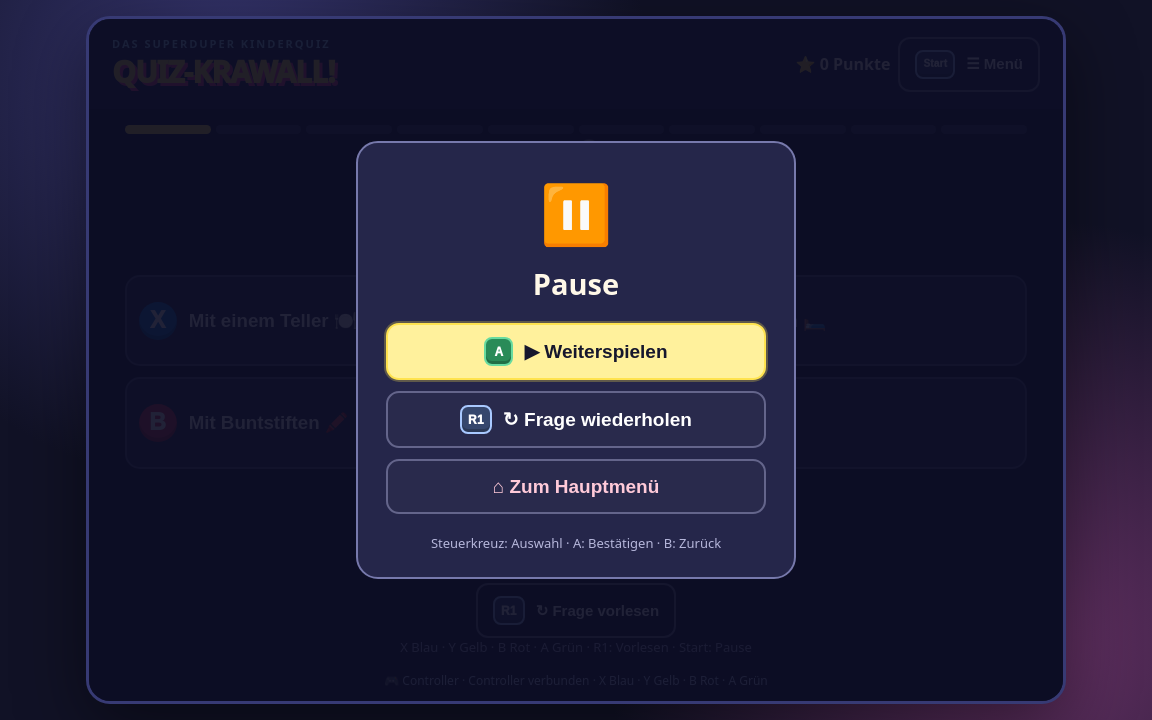
Test: adaptive keyboard and controller hints › displays correct pause-menu shortcuts and restores keyboard mode after using mouse
Check: the button "R1 ↻ Frage wiederholen" is shown, box x1=386 y1=391 x2=766 y2=448
Hover over the button "A ▶ Weiterspielen": point(576, 352) x1=386 y1=323 x2=766 y2=380
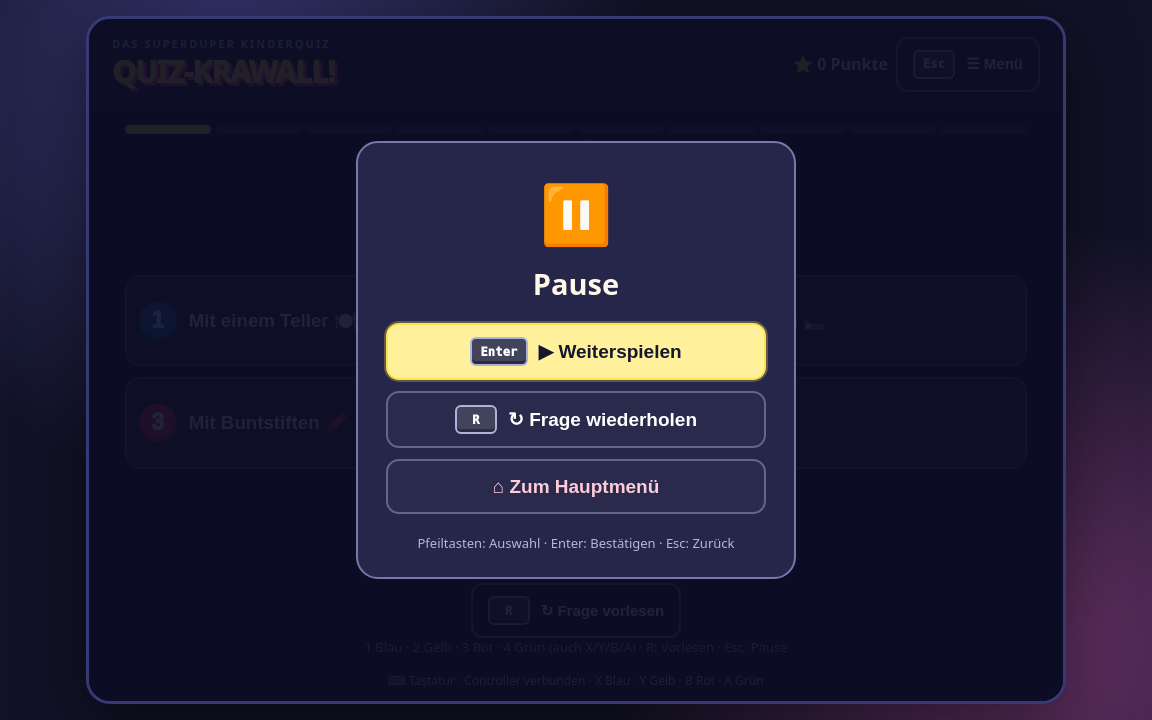
Check: the button "R ↻ Frage wiederholen" is shown, box x1=386 y1=391 x2=766 y2=448
Check: the button "Enter ▶ Weiterspielen" is shown, box x1=386 y1=323 x2=766 y2=380
Check: the text "Pfeiltasten: Auswahl · Enter: Bestätigen · Esc: Zurück" is shown, box x1=418 y1=534 x2=734 y2=552
